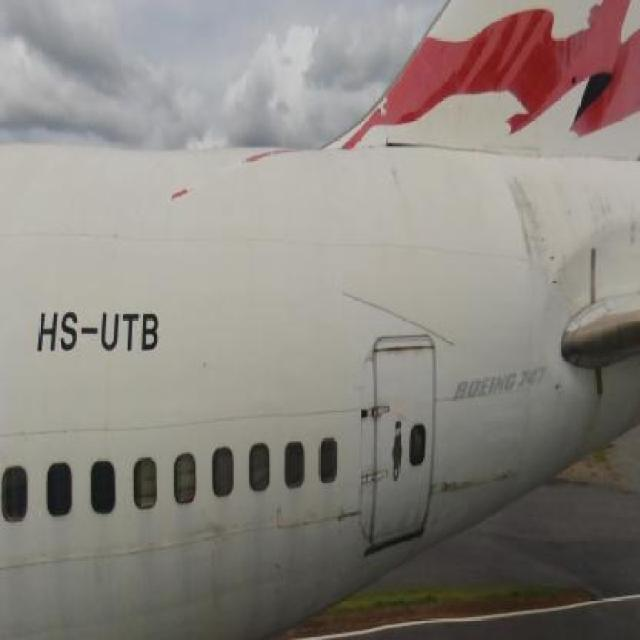Rust: (502, 168, 555, 282), (570, 183, 625, 232), (579, 373, 607, 445), (437, 470, 512, 493), (369, 337, 434, 361)
Scartch: (197, 517, 240, 621), (325, 494, 360, 532)
